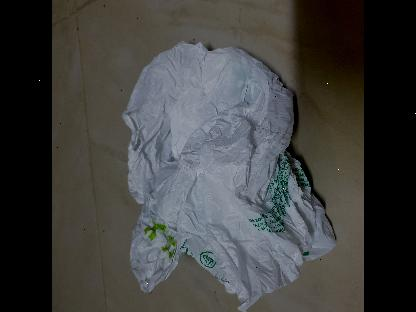Others: (124, 41, 336, 311)
